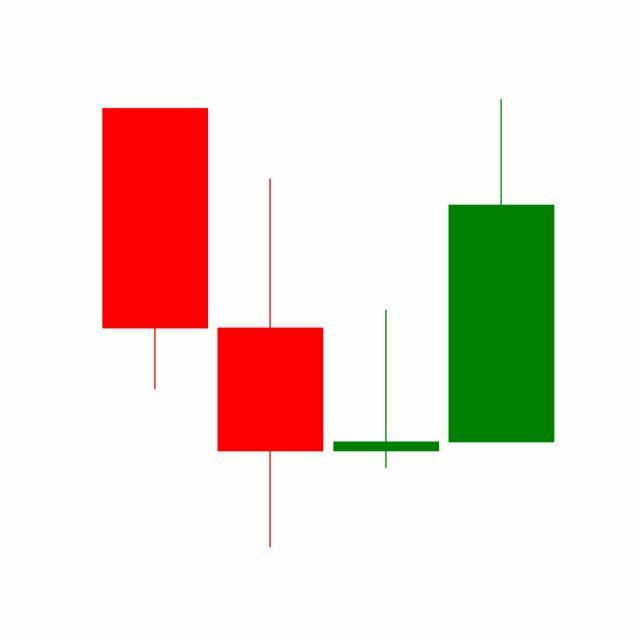Spinning Top: (329, 309, 445, 471)
